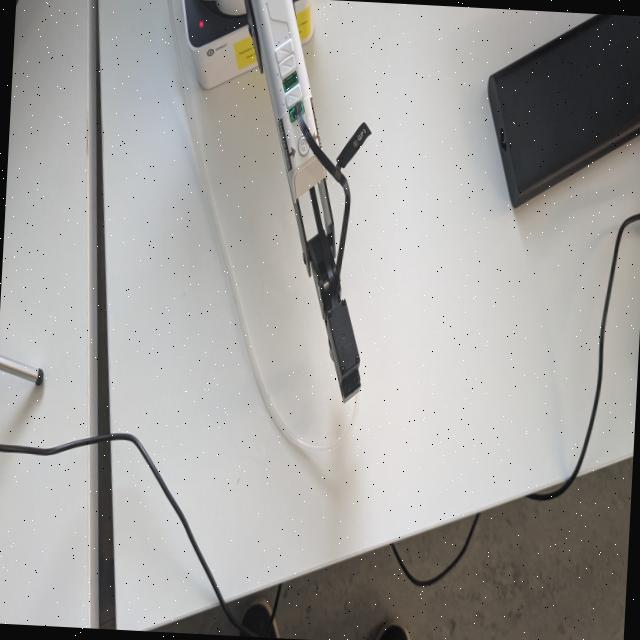Robot-end-effector-HF8z: (316, 290, 366, 404)
